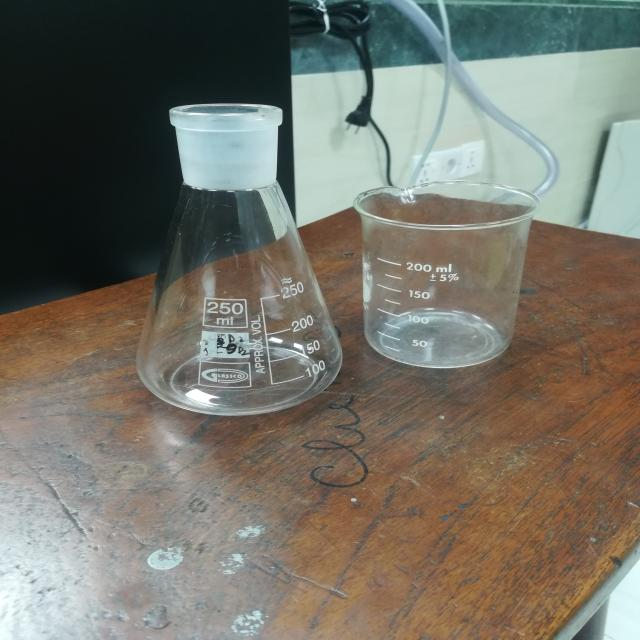Beaker: (351, 166, 564, 378)
Conical_Flask: (123, 88, 340, 418)
